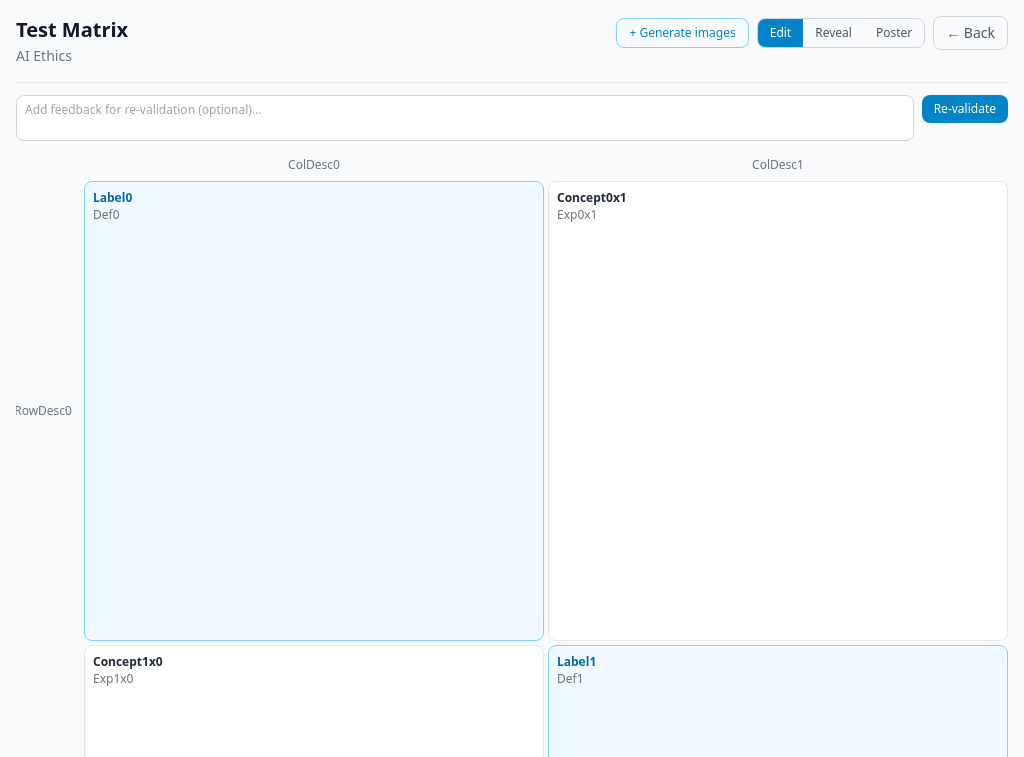
it: MatrixView — detail panel shows name and description › shows "About" label only for off-diagonal cells (not in grid)
The image size is (1024, 757).
Expected: the text "About" is not shown
Click the text "Concept0x1" at (592, 198), box [557,189,627,206]
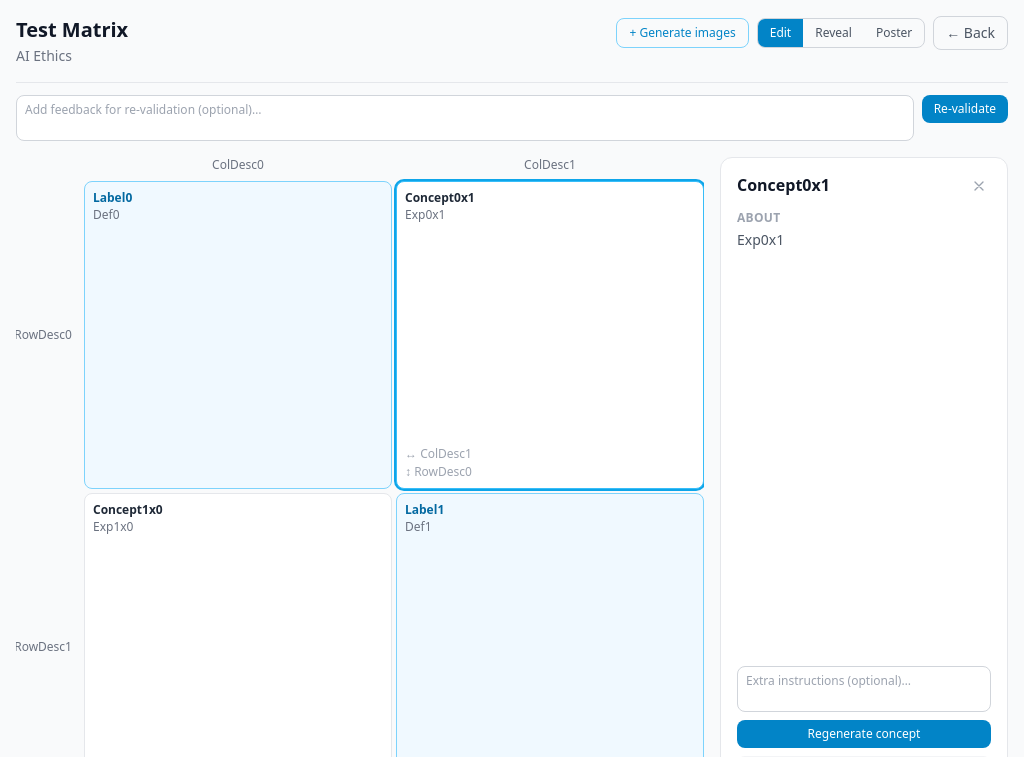
Now the text "About" is shown, box [737,209,780,226]
